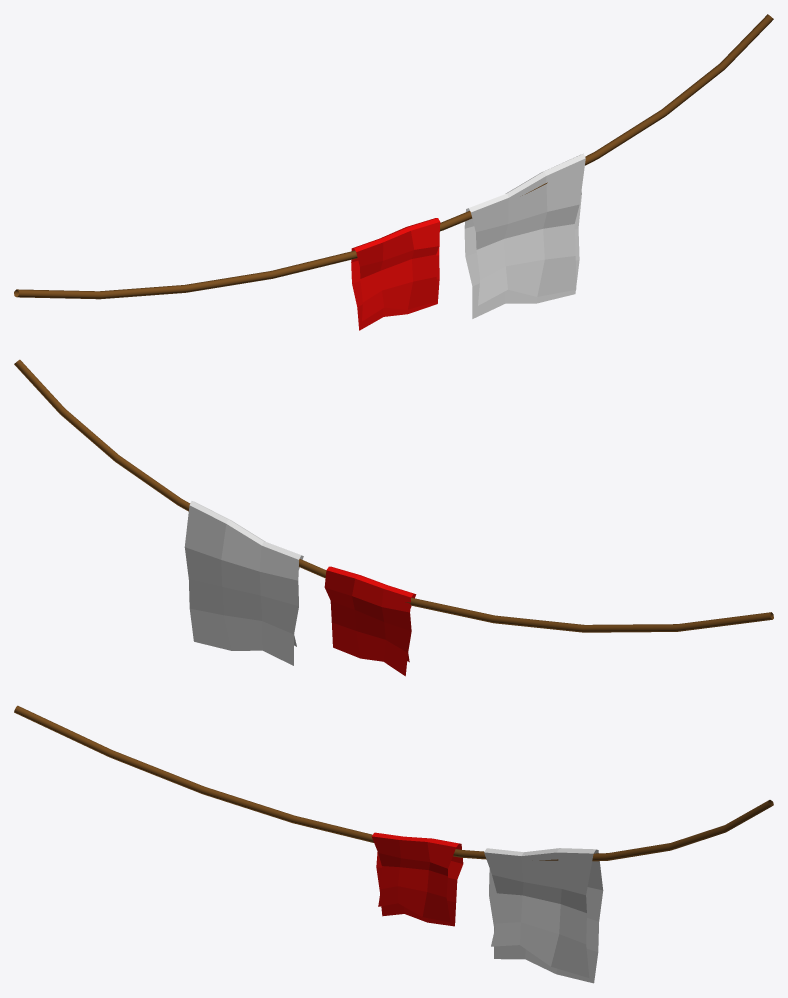
File: Beach_House_Hanging_Cloth_01.fbx
3 renders of one model, top to bottom at view 1: azimuth 30°, elevation 25°; view 2: azimuth 150°, elevation 25°; view 3: azimuth 330°, elevation 25°, orthographic. The views are drawn at different scales.
Parts seen in each view (by area): view 1: Beach_House_Hanging_Cloth_01; view 2: Beach_House_Hanging_Cloth_01; view 3: Beach_House_Hanging_Cloth_01.
Part boxes in pixels (x1,y1,x2,y2): Beach_House_Hanging_Cloth_01: (14,14,773,330); Beach_House_Hanging_Cloth_01: (14,359,773,676); Beach_House_Hanging_Cloth_01: (14,705,773,983).
Bounding box in the file's own units: 5.69 × 1.69 × 0.2917.
